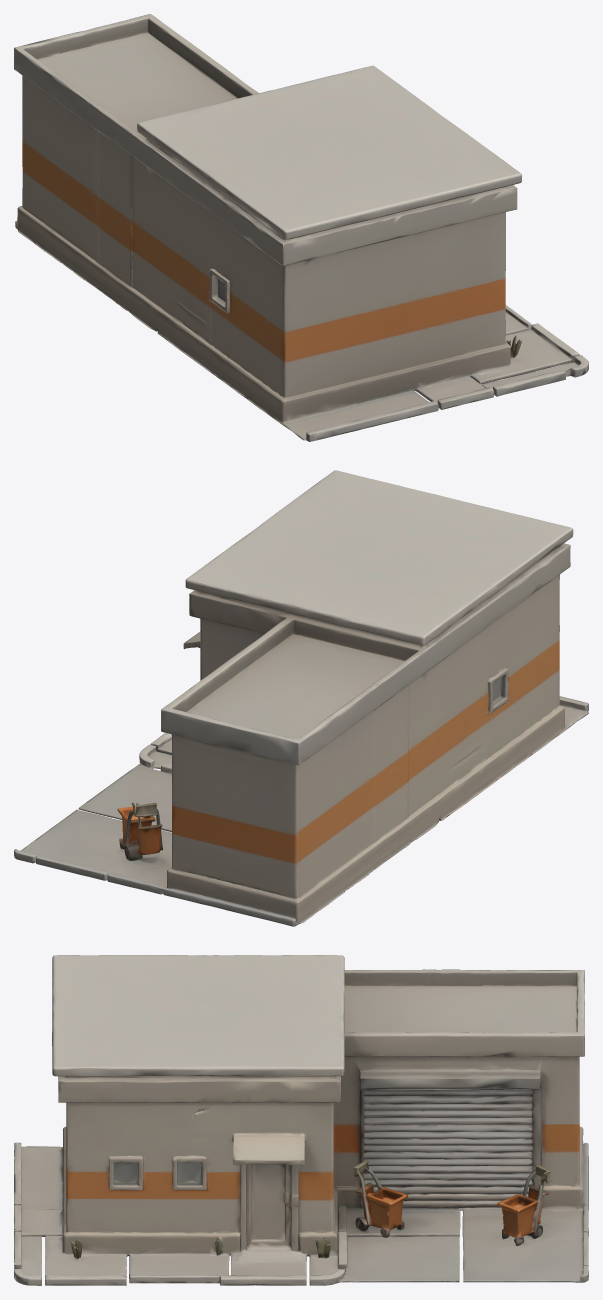
The model's file is obra_varredores.glb.
3 renders of one model, top to bottom at view 1: azimuth 30°, elevation 25°; view 2: azimuth 150°, elevation 25°; view 3: azimuth 270°, elevation 25°, orthographic. The views are drawn at different scales.
Visible parts, largest first — view 1: tripo_node_86443155-dede-45fa-ad69-8ce67dcef494; view 2: tripo_node_86443155-dede-45fa-ad69-8ce67dcef494; view 3: tripo_node_86443155-dede-45fa-ad69-8ce67dcef494.
Part boxes in pixels (x1,y1,x2,y2): tripo_node_86443155-dede-45fa-ad69-8ce67dcef494: (14,14,588,441); tripo_node_86443155-dede-45fa-ad69-8ce67dcef494: (14,470,588,926); tripo_node_86443155-dede-45fa-ad69-8ce67dcef494: (14,955,588,1285).
Size of the model in its own units: 0.5704 by 0.3698 by 0.9988.
1 material, 1 textured.
